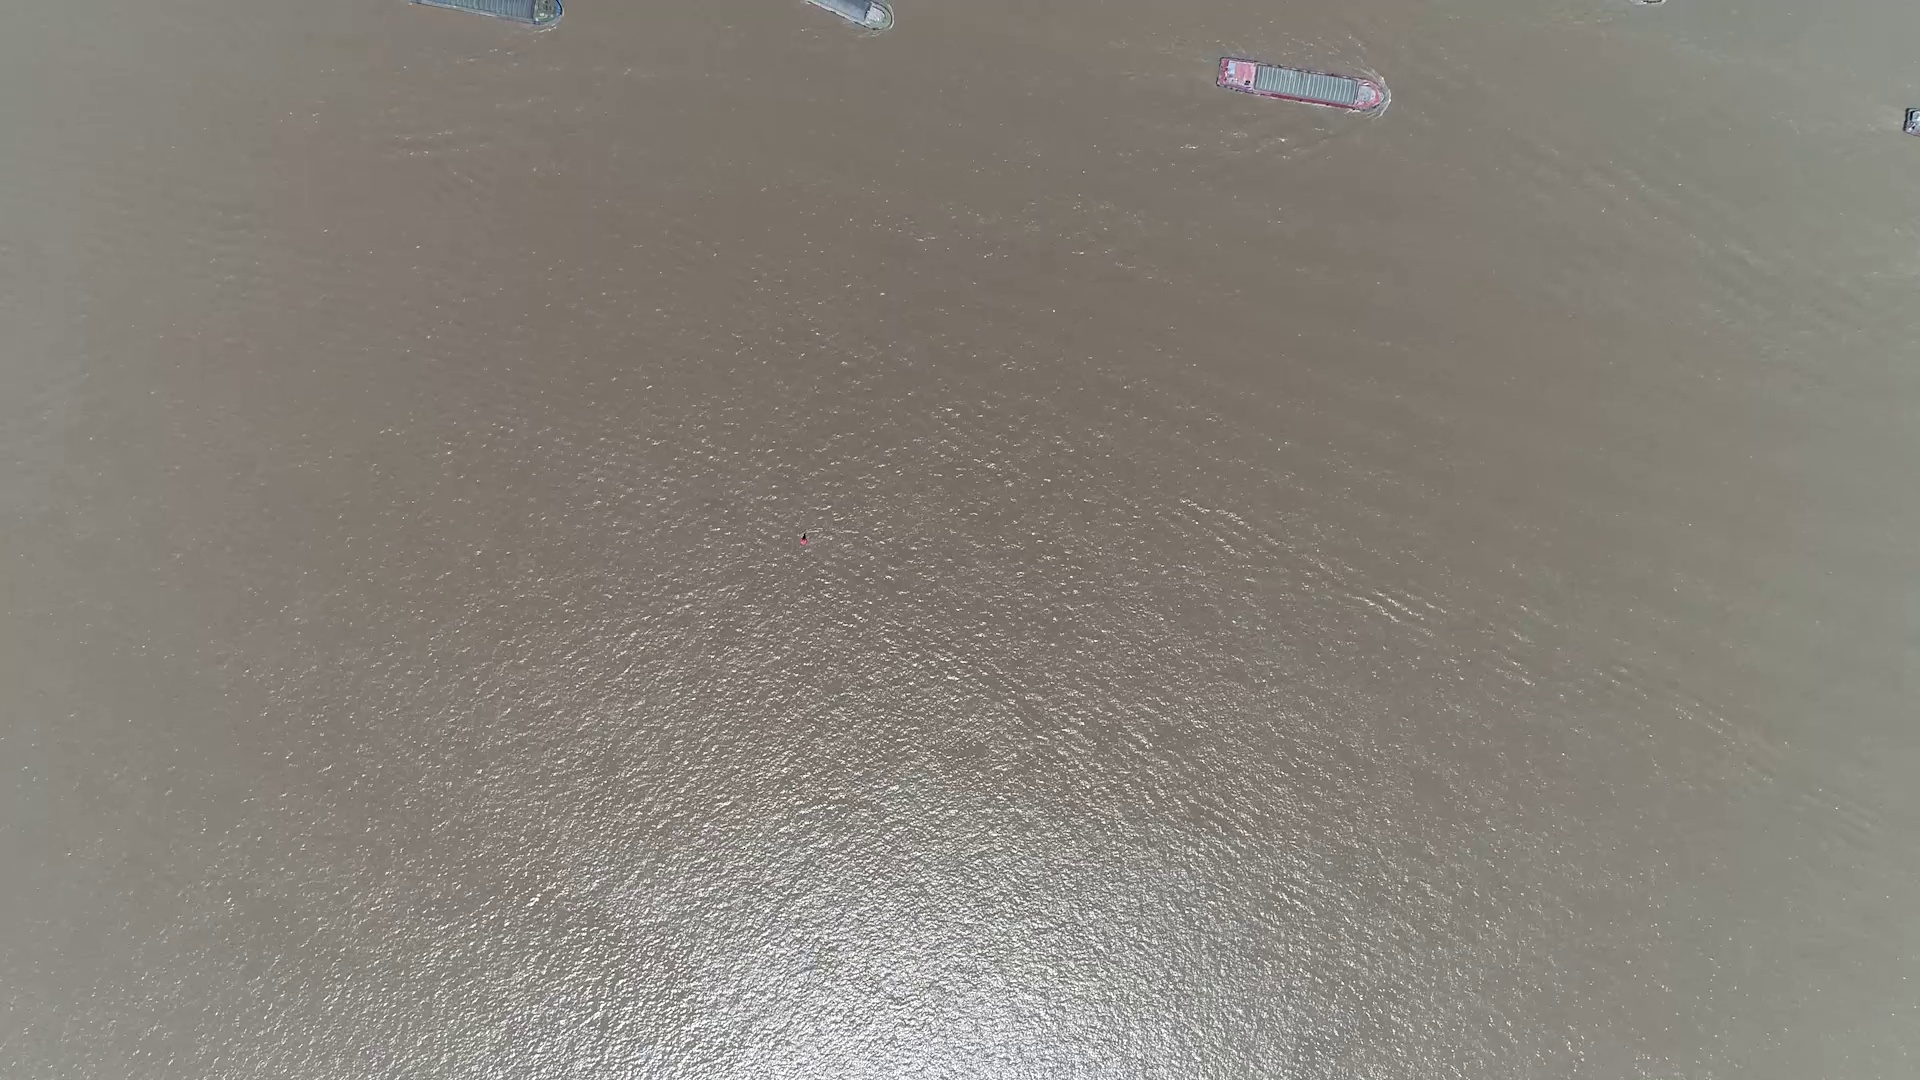ship: (1215, 59, 1389, 113)
